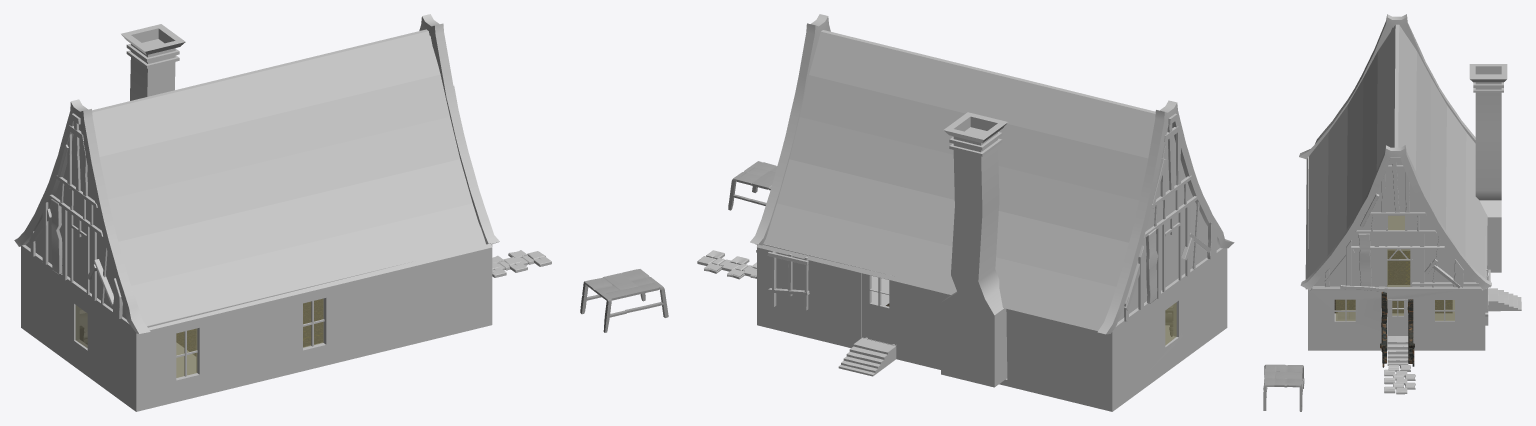
Rendered from the house for the game.fbx.
3 views of the same model, side by side, from view 1: azimuth 30°, elevation 25°; view 2: azimuth 150°, elevation 25°; view 3: azimuth 270°, elevation 25° (orthographic). The views are drawn at different scales.
Visible parts, largest first — view 1: the_roof_body, the_house_body, the_roof_wood25, the_fire_place, the_roof_wood24, outside_table, the_carpet, the_window_on_the_side, the_long_window_on_the_side, the_roof_wood51; view 2: the_roof_body, the_house_body, the_fire_place, the_roof_wood25, the_roof_wood24, the_door_in_the_side, the_stares_on_the_side, outside_table, the_roof_wood51; view 3: the_roof_body, the_house_body, the_fire_place, the_roof_wood24, the_roof_wood25, the_carpet, outside_table, long_window, the_front_door, the_stares_on_the_side, the_front_staris, the_roof_wood34 (+10 smaller).
Part boxes in pixels (x1,y1,x2,y2): the_roof_body: [25, 29, 492, 330]; the_house_body: [21, 244, 492, 411]; the_roof_wood25: [14, 99, 150, 333]; the_fire_place: [121, 24, 185, 100]; the_roof_wood24: [419, 14, 499, 244]; outside_table: [580, 269, 668, 332]; the_carpet: [176, 299, 322, 355]; the_window_on_the_side: [176, 328, 197, 377]; the_long_window_on_the_side: [303, 298, 323, 347]; the_roof_wood51: [51, 199, 62, 274]; the_roof_body: [757, 30, 1220, 330]; the_house_body: [757, 244, 1227, 411]; the_fire_place: [941, 112, 1007, 387]; the_roof_wood25: [1097, 100, 1234, 334]; the_roof_wood24: [750, 14, 830, 245]; the_door_in_the_side: [862, 273, 896, 345]; the_stares_on_the_side: [838, 338, 896, 376]; outside_table: [728, 161, 777, 210]; the_roof_wood51: [1145, 229, 1157, 303]; the_roof_body: [1305, 24, 1487, 289]; the_house_body: [1308, 156, 1485, 350]; the_fire_place: [1469, 64, 1507, 272]; the_roof_wood24: [1300, 145, 1491, 290]; the_roof_wood25: [1299, 14, 1475, 159]; the_carpet: [1334, 251, 1452, 313]; outside_table: [1263, 364, 1304, 411]; long_window: [1387, 249, 1410, 286]; the_front_door: [1387, 299, 1408, 335]; the_stares_on_the_side: [1488, 288, 1521, 311]; the_front_staris: [1387, 336, 1408, 365]; the_roof_wood34: [1358, 233, 1371, 286].
Bounding box in the file's own units: 388 × 198 × 222.
